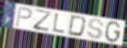D: (67, 14, 87, 38)
G: (104, 21, 122, 44)
L: (52, 13, 66, 35)
P: (15, 6, 33, 28)
S: (86, 18, 105, 40)
Z: (33, 9, 53, 33)
